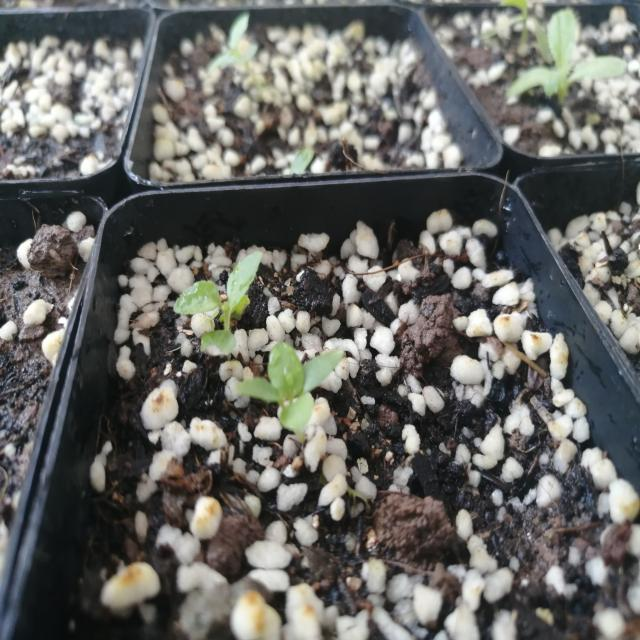billygoat_weed: (243, 332, 358, 454), (177, 250, 270, 377)
